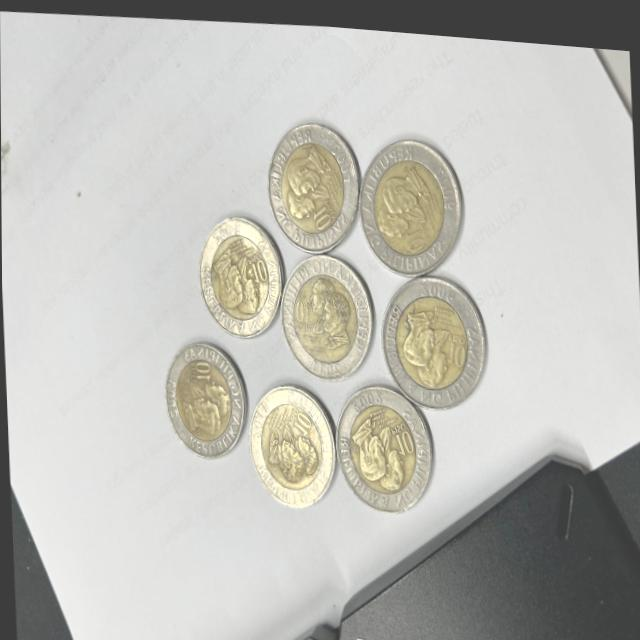10_Old_Front: (402, 219, 423, 250), (309, 199, 330, 228), (393, 420, 412, 452), (444, 334, 465, 361), (291, 291, 311, 317), (290, 402, 308, 430), (192, 354, 210, 380), (249, 253, 266, 279)
